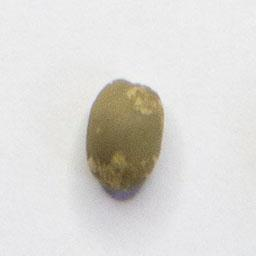peaberry: (81, 76, 170, 197)
